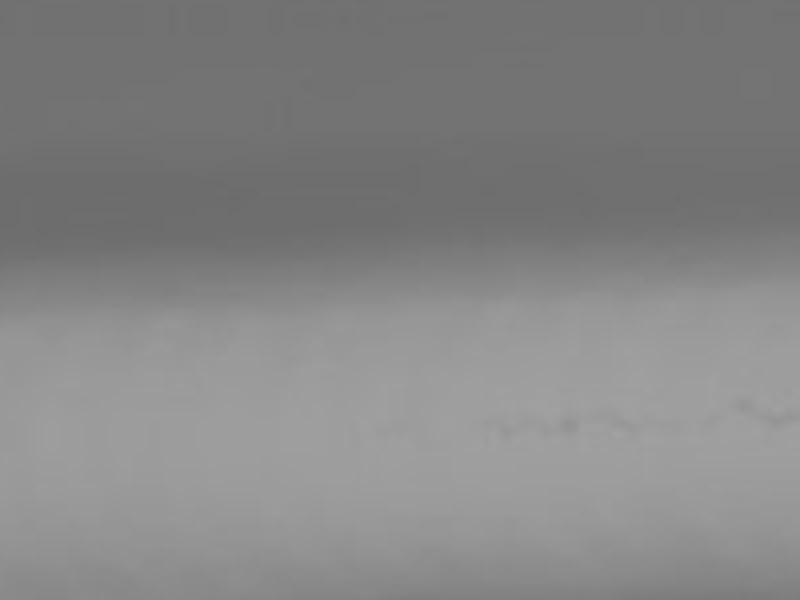defect: (727, 392, 756, 417), (556, 417, 582, 443)
